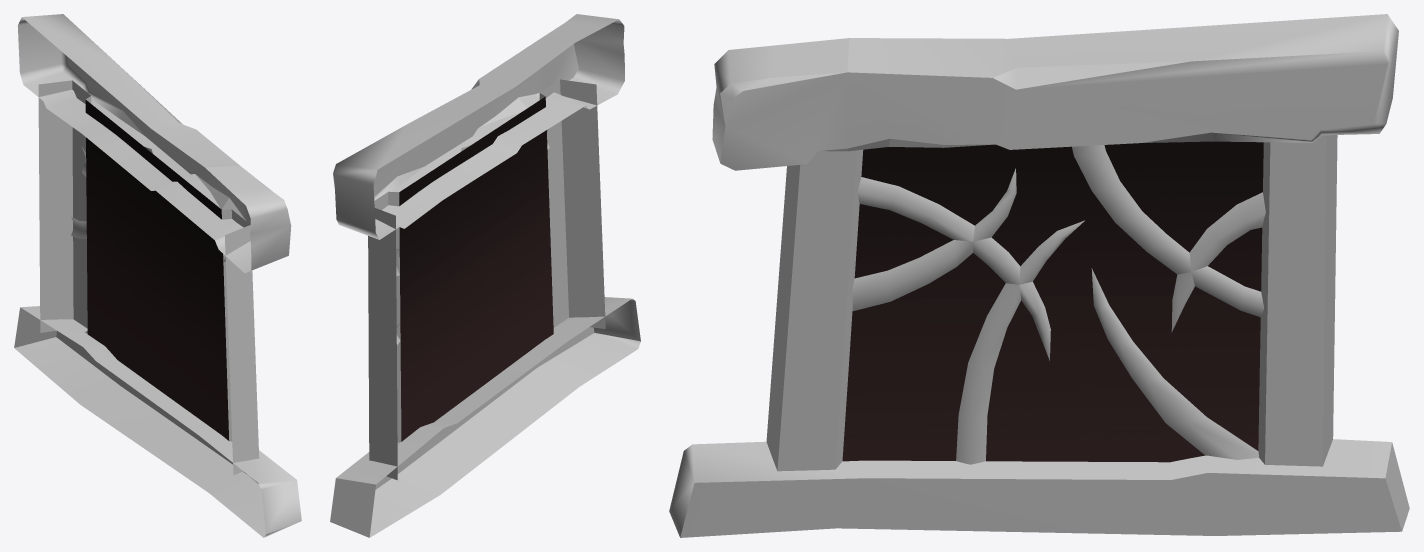
File: lower_city_window_06.fbx
3 views of the same model, side by side, from view 1: azimuth 30°, elevation 25°; view 2: azimuth 150°, elevation 25°; view 3: azimuth 270°, elevation 25° (orthographic). The views are drawn at different scales.
Parts seen in each view (by area): view 1: lower_city_window_06; view 2: lower_city_window_06; view 3: lower_city_window_06.
Part boxes in pixels (left/top/right/bottom): lower_city_window_06: left=14, top=14, right=301, bottom=537; lower_city_window_06: left=330, top=14, right=640, bottom=537; lower_city_window_06: left=669, top=14, right=1409, bottom=537.
Size of the model in its own units: 0.1384 by 1.03 by 1.37.
